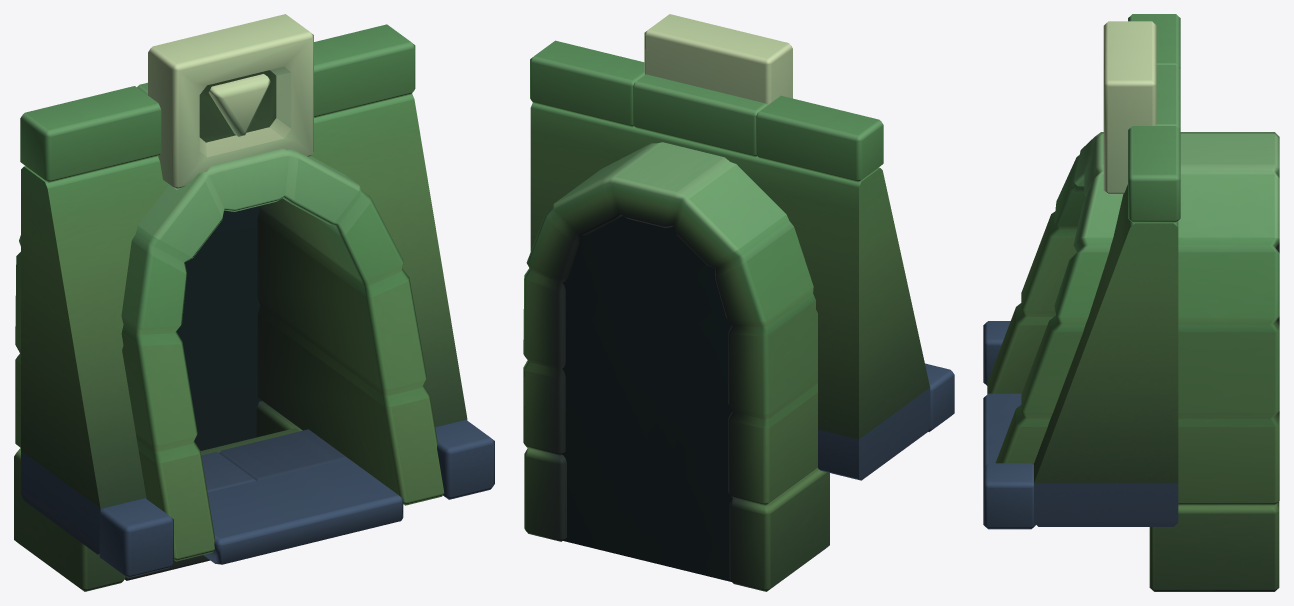
File: doorway_down_lower_wall.fbx
The picture shows the model from 3 angles, left to right: view 1: azimuth 30°, elevation 25°; view 2: azimuth 150°, elevation 25°; view 3: azimuth 270°, elevation 25°; orthographic projection. The views are drawn at different scales.
Visible parts, largest first — view 1: doorway_down_lower_wall; view 2: doorway_down_lower_wall; view 3: doorway_down_lower_wall.
Part boxes in pixels (x1,y1,x2,y2): doorway_down_lower_wall: (14, 14, 494, 591); doorway_down_lower_wall: (523, 14, 954, 591); doorway_down_lower_wall: (983, 14, 1279, 591).
Bounding box in the file's own units: 405 × 552 × 308.
